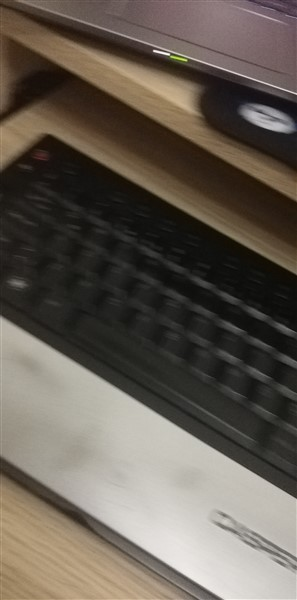klavye: (1, 134, 294, 597)
